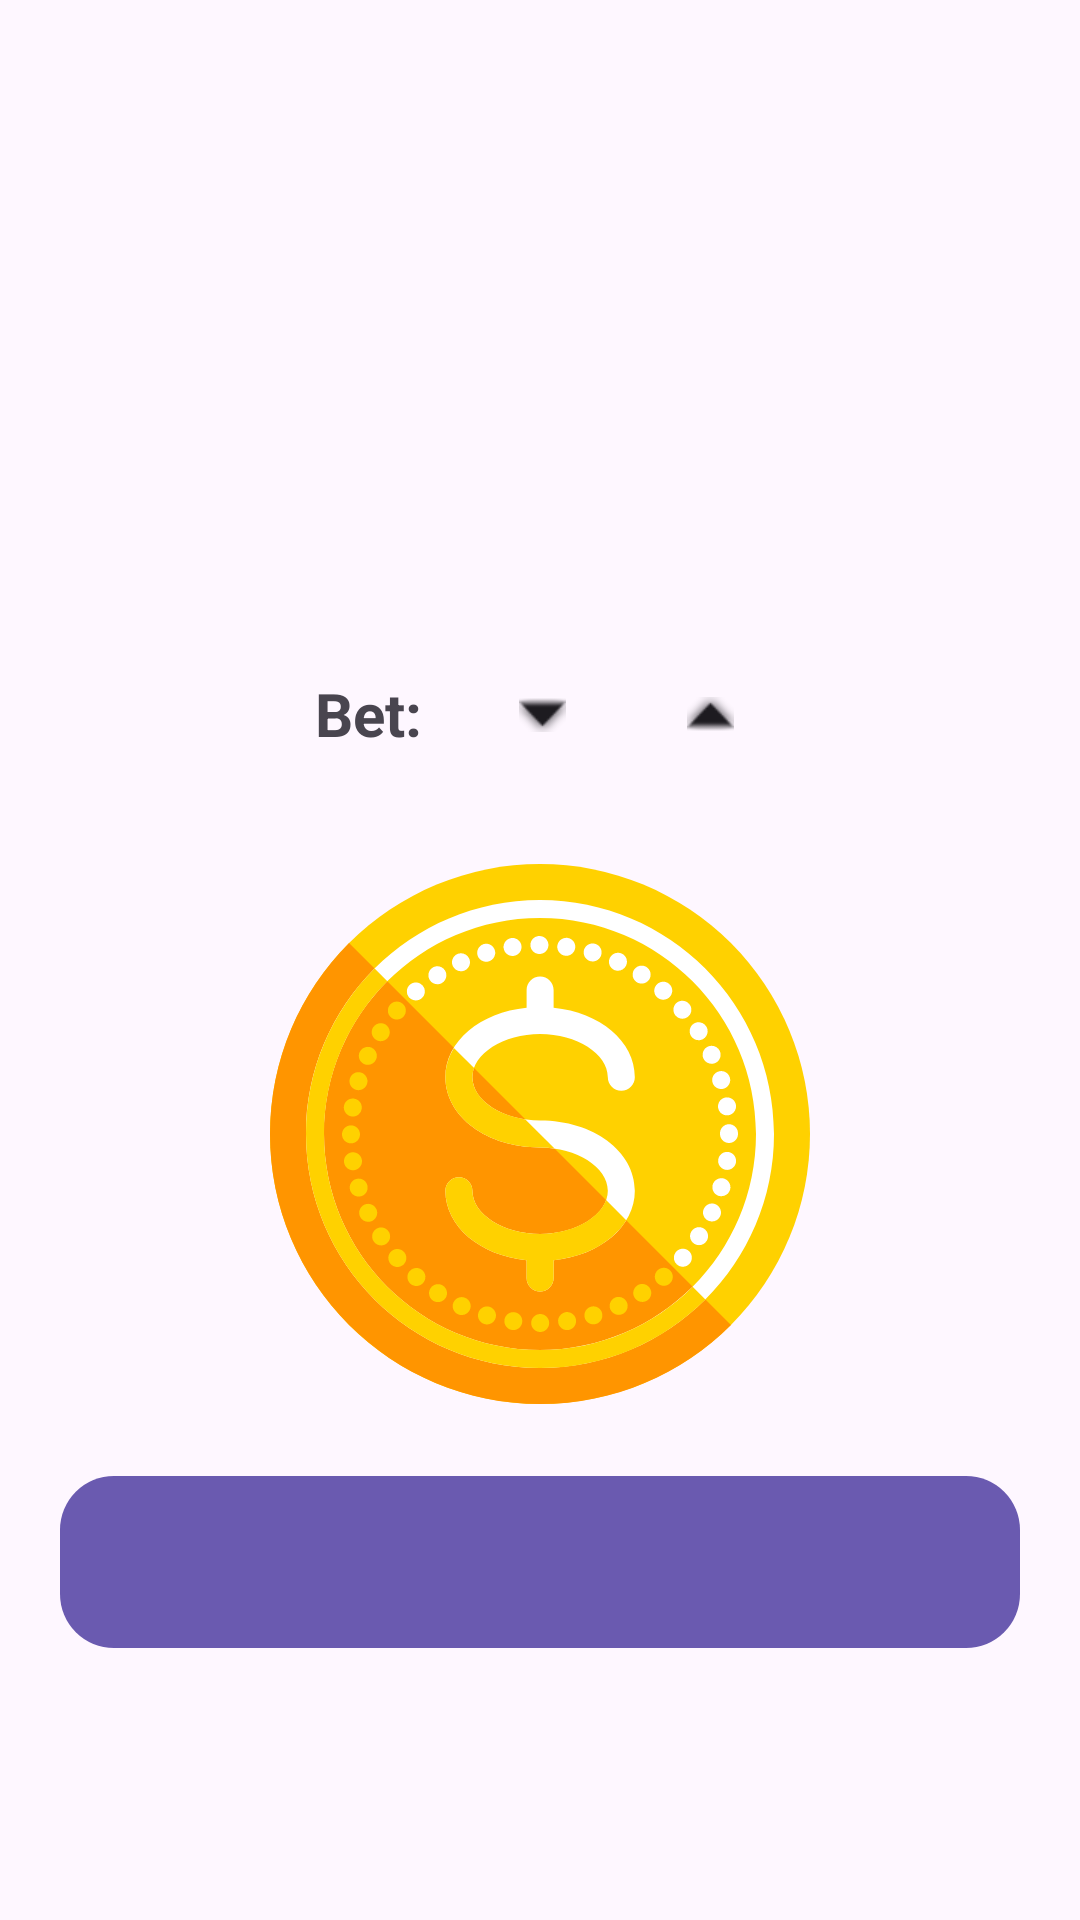

Icon click points for this 1080*1920 phone screenshot, format [x,y]:
arrow down float: [542,715]
arrow up float: [710,714]
